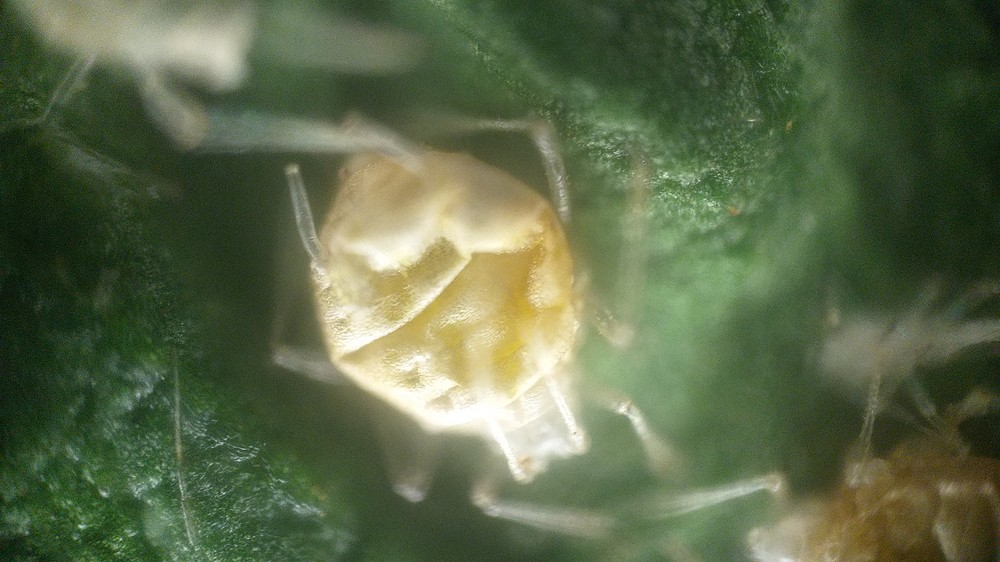Pulgon: (242, 99, 700, 525)
